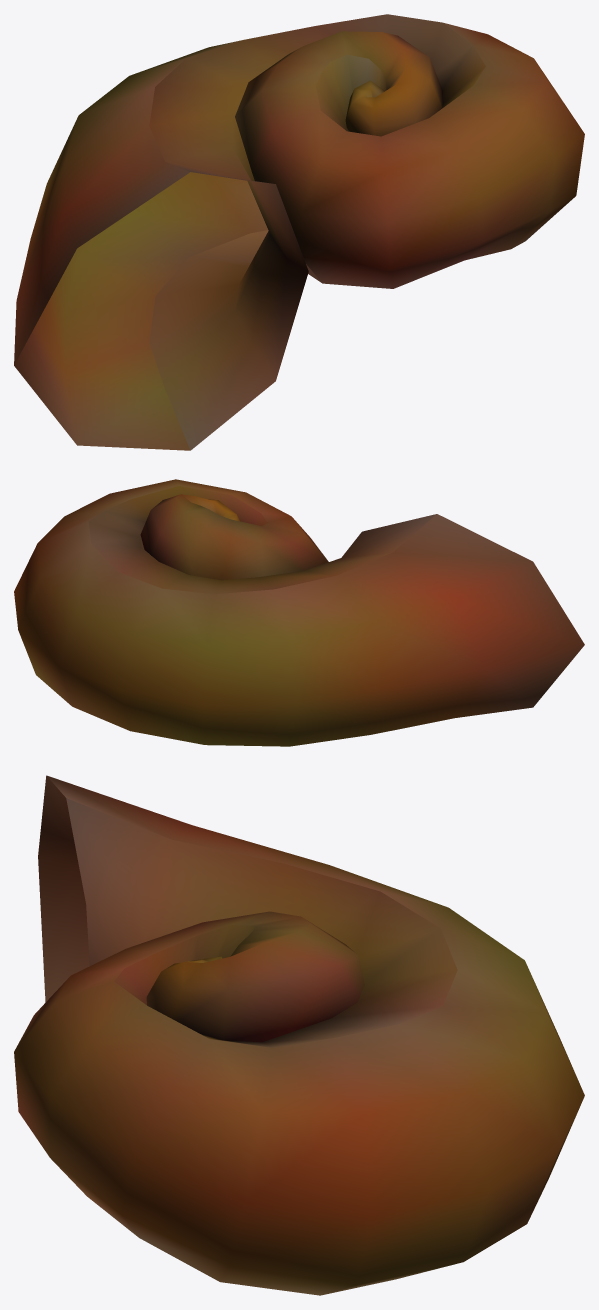
The model's file is Shell_B.glb.
The picture shows the model from 3 angles, top to bottom: view 1: azimuth 30°, elevation 25°; view 2: azimuth 150°, elevation 25°; view 3: azimuth 270°, elevation 25°; orthographic projection. The views are drawn at different scales.
Visible parts, largest first — view 1: Shell_B; view 2: Shell_B; view 3: Shell_B.
Boxes of the visible parts, <box> form: Shell_B: <box>14,14,584,450</box>; Shell_B: <box>14,479,584,746</box>; Shell_B: <box>14,775,584,1295</box>.
Bounding box in the file's own units: 0.28 × 0.1226 × 0.1759.
